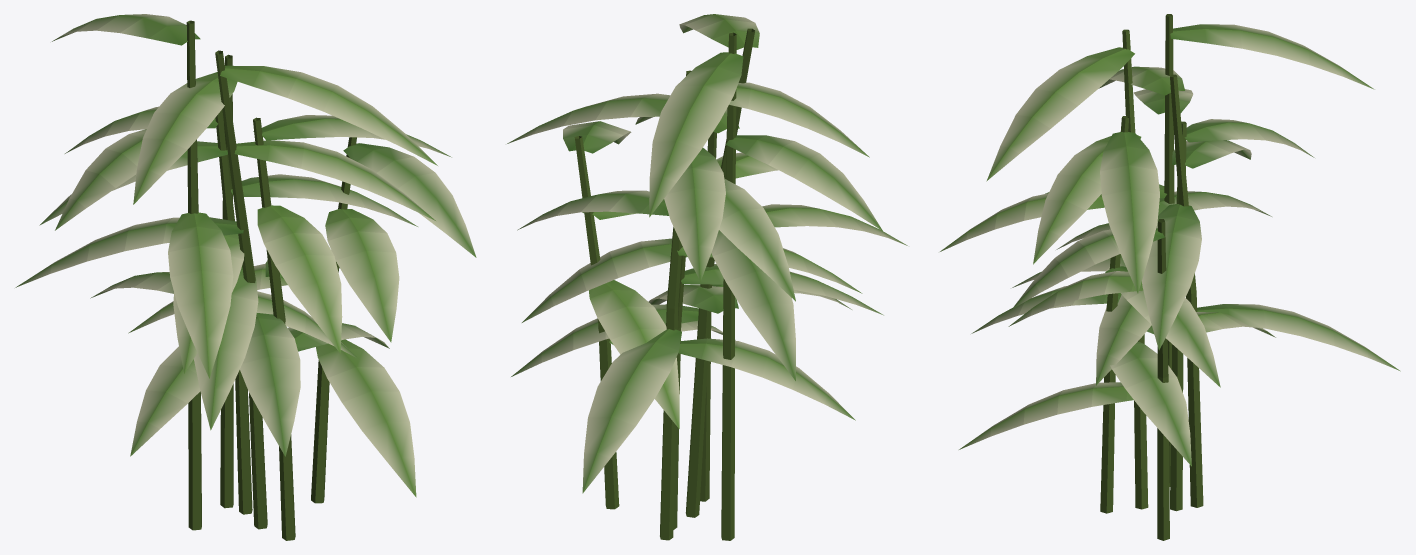
The model's file is Shrine_Sasa.fbx.
3 renders of one model, left to right at view 1: azimuth 30°, elevation 25°; view 2: azimuth 150°, elevation 25°; view 3: azimuth 270°, elevation 25°, orthographic. The views are drawn at different scales.
Visible parts, largest first — view 1: Shrine_Sasa; view 2: Shrine_Sasa; view 3: Shrine_Sasa.
Boxes of the visible parts, x1,y1,x2,y2 form: Shrine_Sasa: (15,14,476,540); Shrine_Sasa: (507,14,907,540); Shrine_Sasa: (940,14,1400,540).
Bounding box in the file's own units: 4.31 × 5.38 × 4.83.
